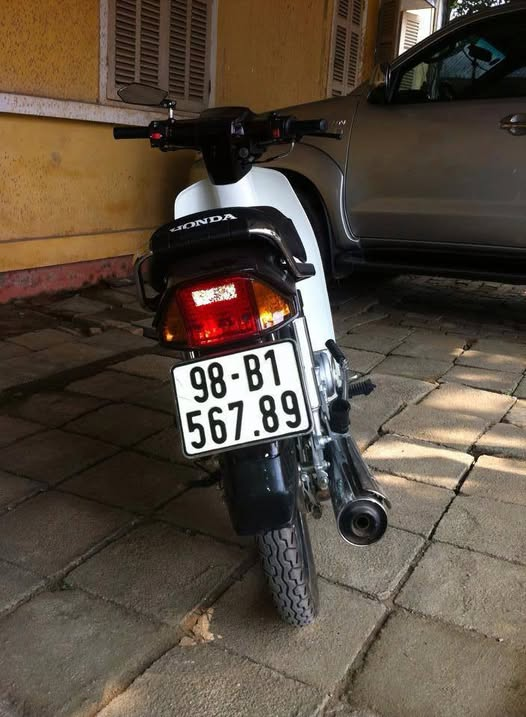bien_so: (164, 332, 319, 463)
